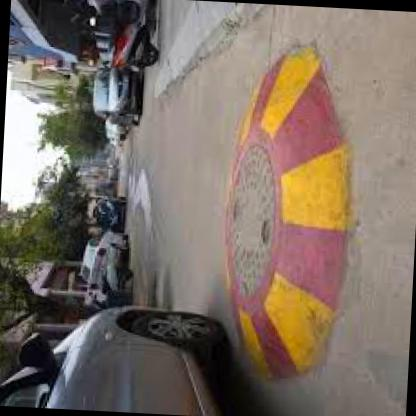manholes: (211, 132, 300, 318)
